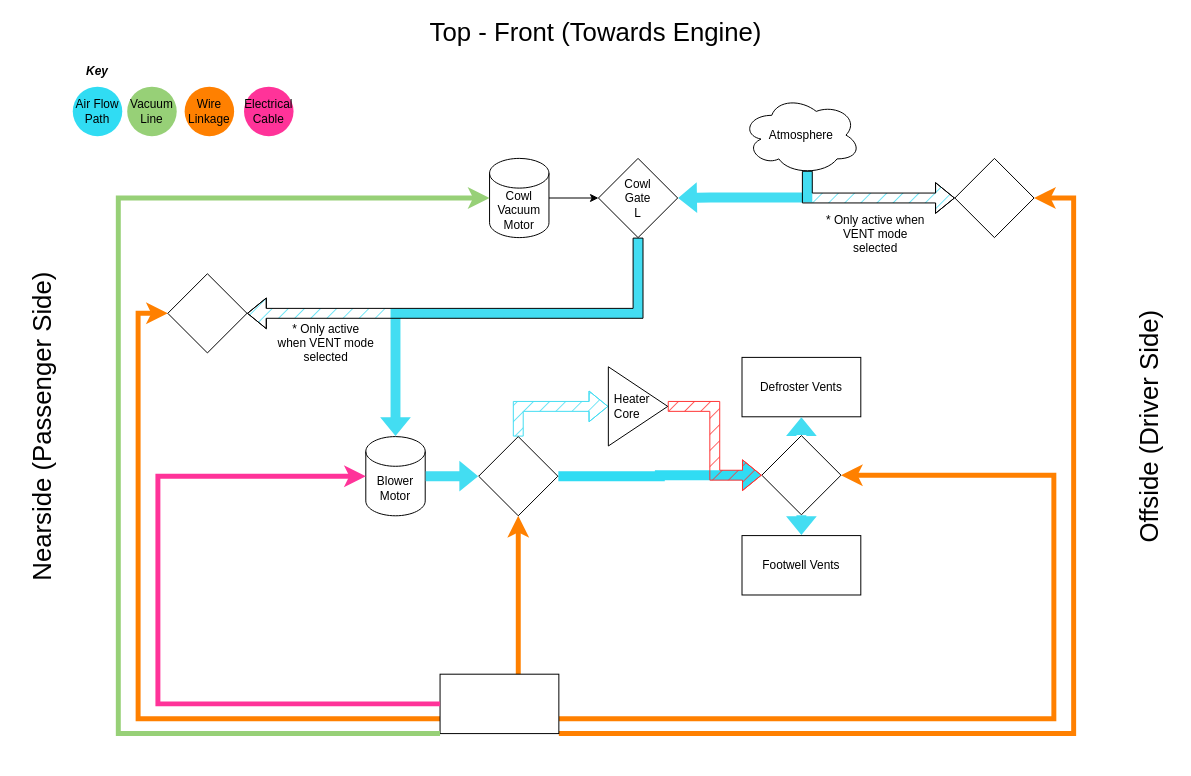
This 1191x776 diagram has some shape labels left out. Here are the shapes that lost their labels. From the top down, the box of each, then its label:
(954, 157, 1034, 238): Cowl Gate R
(167, 273, 247, 353): Vent Gate
(478, 436, 558, 516): Blend Gate
(761, 435, 841, 515): Defrost Gate
(439, 673, 559, 734): Dashboard Climate Control Panel
